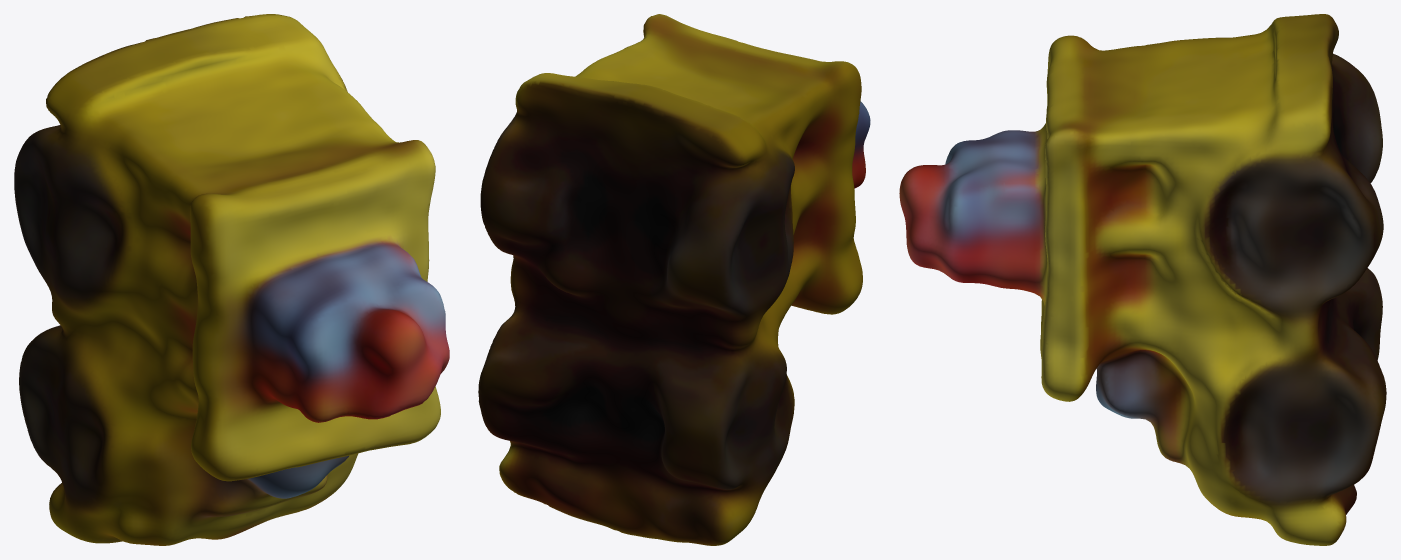
Rendered from school_bus2.glb.
3 renders of one model, left to right at view 1: azimuth 30°, elevation 25°; view 2: azimuth 150°, elevation 25°; view 3: azimuth 270°, elevation 25°, orthographic. The views are drawn at different scales.
Bounding box in the file's own units: 0.6257 × 0.9992 × 0.9679.
